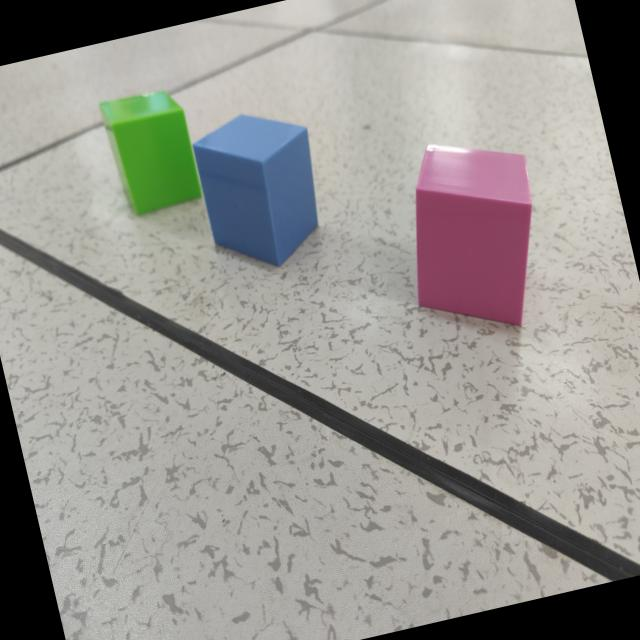blue: (193, 114, 319, 268)
green: (99, 92, 202, 217)
pink: (414, 144, 534, 328)
